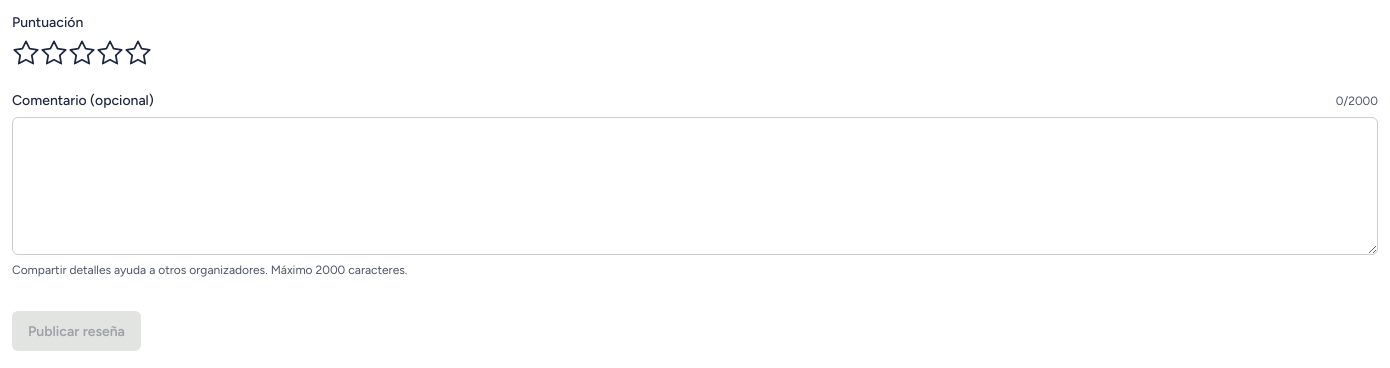
Test: US-065 · ReviewForm › CTA se habilita al seleccionar rating
What coordinates should you click on to do the following:
click the radio button named "3 de 5 estrellas"
I would click on:
 (82, 53)
Its box is [68, 39, 96, 67].
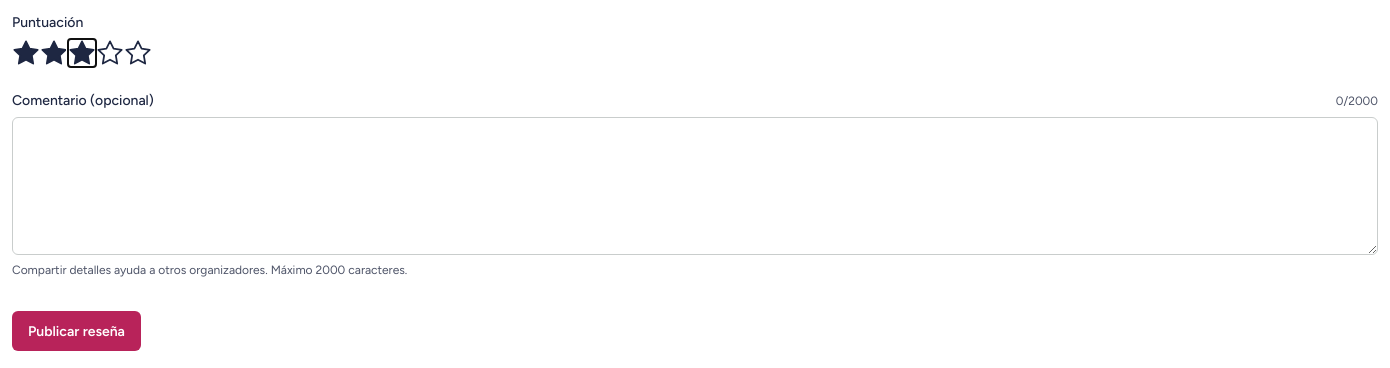
expect the button with test id "review-submit" is enabled: met, box [12, 311, 141, 351]
